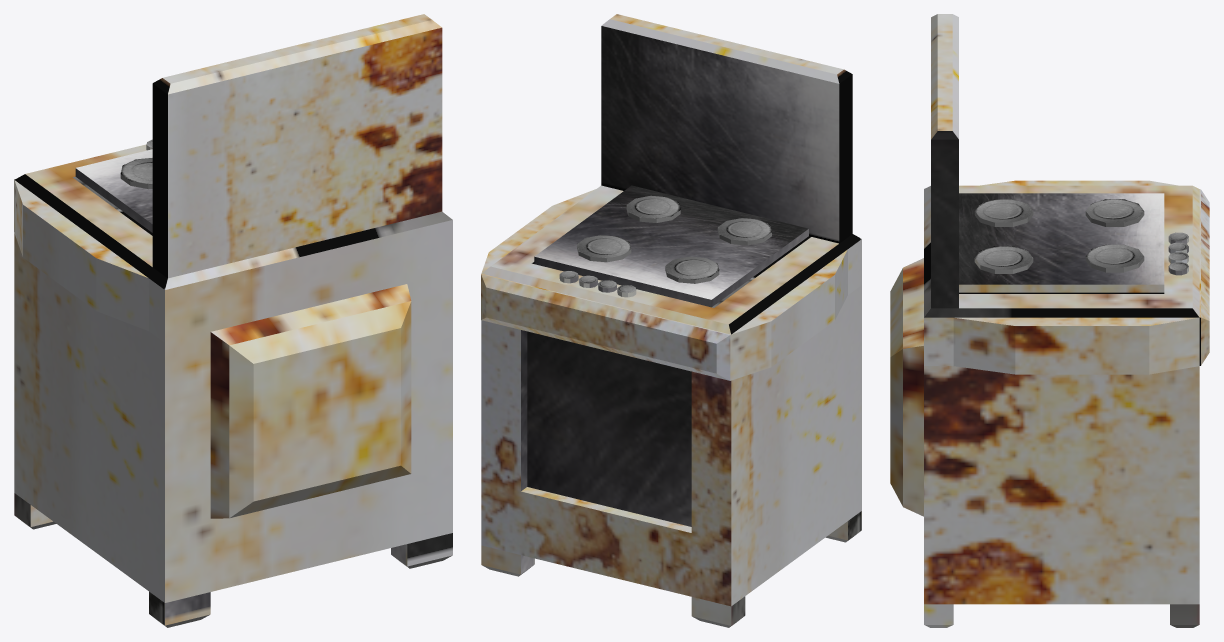
Rendered from fogao.fbx.
The picture shows the model from 3 angles, left to right: view 1: azimuth 30°, elevation 25°; view 2: azimuth 150°, elevation 25°; view 3: azimuth 270°, elevation 25°; orthographic projection. The views are drawn at different scales.
Visible parts, largest first — view 1: fogao; view 2: fogao; view 3: fogao.
Boxes of the visible parts, x1,y1,x2,y2 form: fogao: (14, 14, 452, 627); fogao: (481, 14, 861, 627); fogao: (890, 14, 1209, 627).
Bounding box in the file's own units: 250 × 395 × 232.
Materials: 1 (1 with a texture image).
